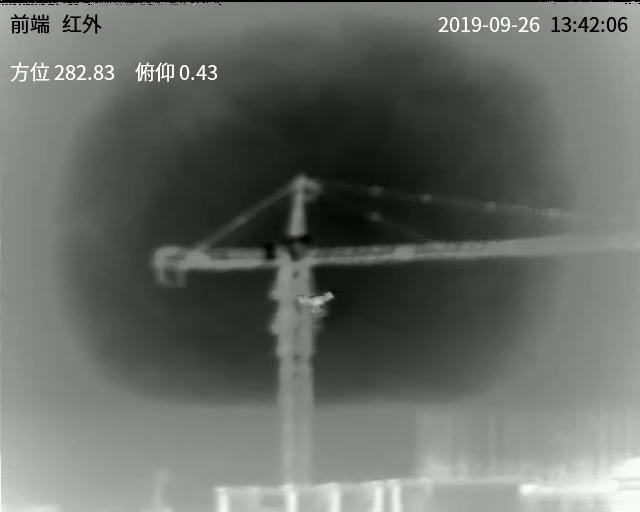uav: (293, 288, 337, 318)
